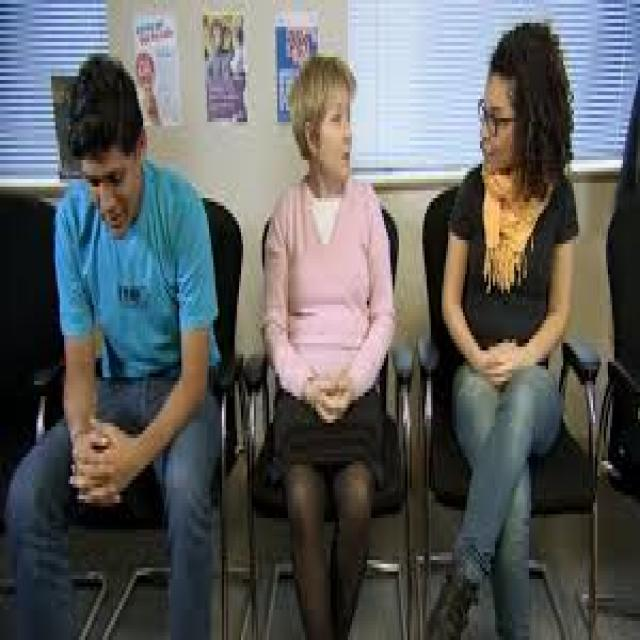nonfall: (6, 42, 227, 630), (439, 10, 576, 628), (265, 32, 391, 620)
